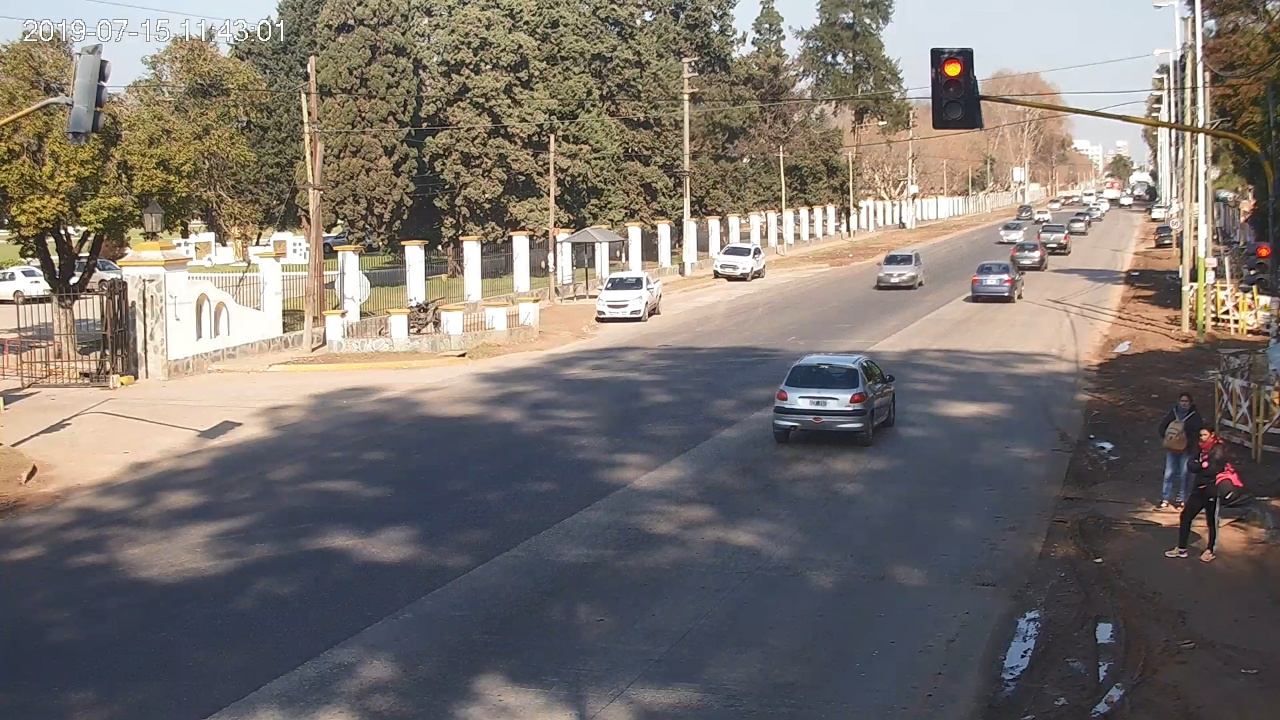car: (773, 353, 896, 446), (971, 261, 1025, 303)
front car: (877, 251, 924, 289)
traffic light: (940, 55, 966, 121), (1255, 243, 1271, 289)
